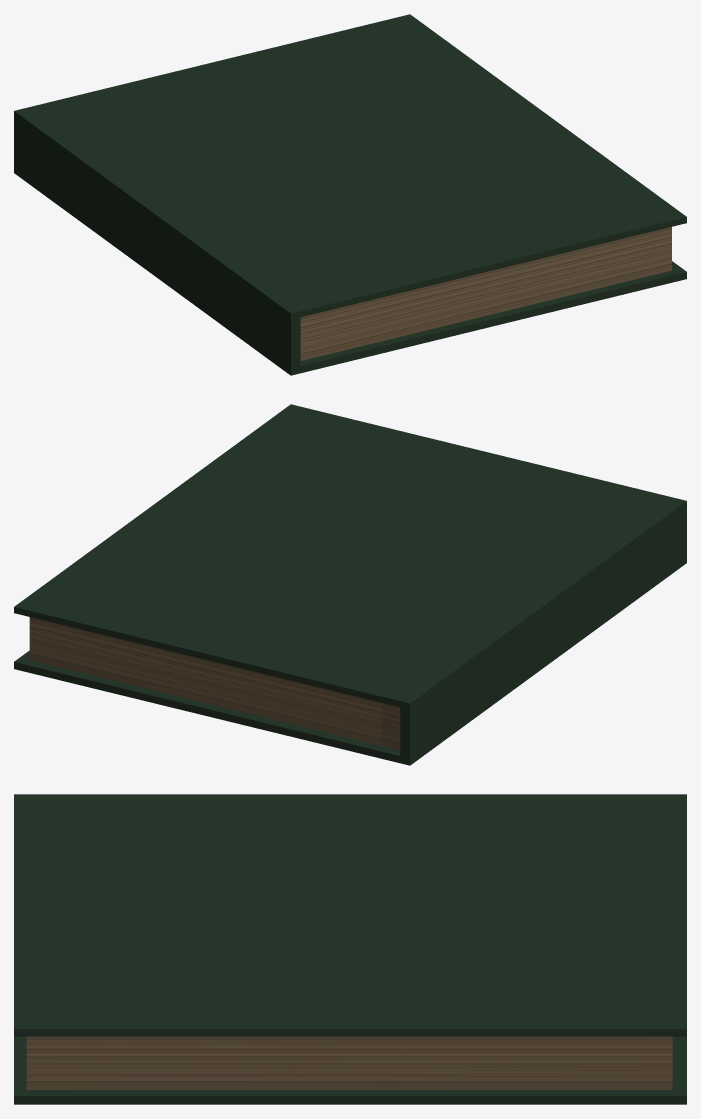
The model's file is book.fbx.
3 views of the same model, one above another, from view 1: azimuth 30°, elevation 25°; view 2: azimuth 150°, elevation 25°; view 3: azimuth 270°, elevation 25° (orthographic). The views are drawn at different scales.
Visible parts, largest first — view 1: Book; view 2: Book; view 3: Book.
Boxes of the visible parts, x1,y1,x2,y2 form: Book: [14, 14, 686, 375]; Book: [14, 404, 686, 765]; Book: [14, 794, 686, 1104].
Size of the model in its own units: 0.133 by 0.0199 by 0.161.
